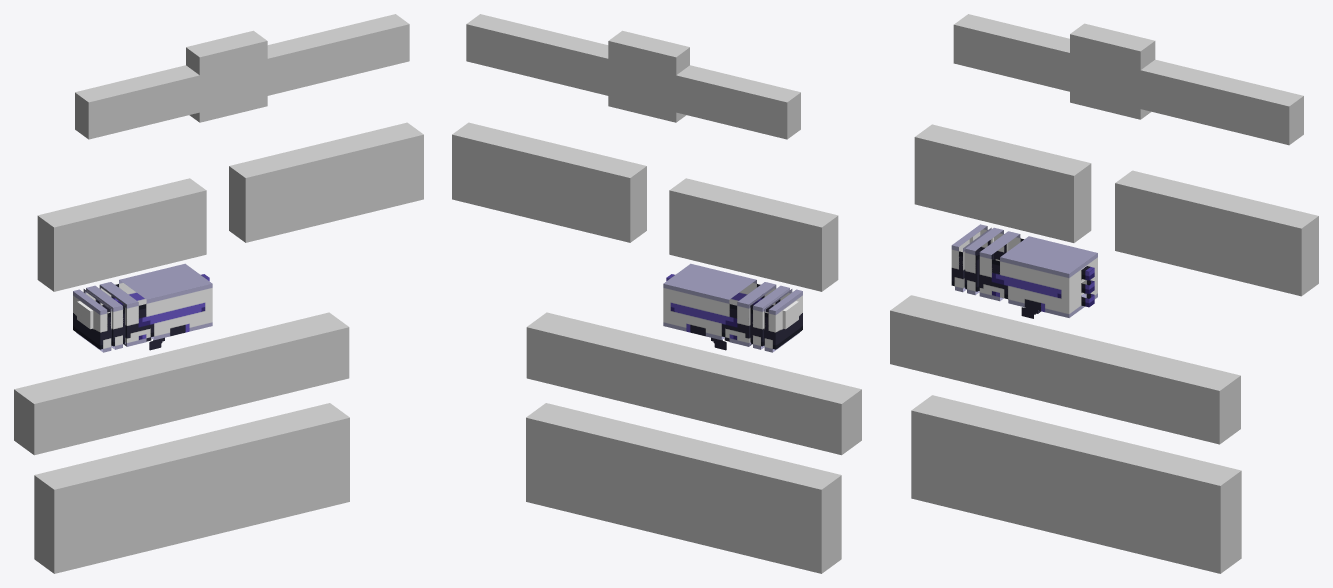
Rendered from WeaponSet.fbx.
The picture shows the model from 3 angles, left to right: view 1: azimuth 30°, elevation 25°; view 2: azimuth 150°, elevation 25°; view 3: azimuth 330°, elevation 25°; orthographic projection. The views are drawn at different scales.
Visible parts, largest first — view 1: SR, SWD, PBC, MG_open, MG, MSL; view 2: SR, SWD, PBC, MG_open, MG, MSL; view 3: SR, SWD, PBC, MG_open, MG, MSL.
Boxes of the visible parts, x1,y1,x2,y2 form: SR: (34,403,349,573); SWD: (14,312,349,455); PBC: (75,14,409,139); MG_open: (229,122,423,242); MG: (37,178,206,291); MSL: (73,263,212,352); SR: (526,403,841,573); SWD: (526,312,861,455); PBC: (466,14,800,139); MG_open: (452,122,646,242); MG: (669,178,838,291); MSL: (663,263,802,352); SR: (911,395,1241,573); SWD: (890,295,1240,444); PBC: (953,14,1303,145); MG_open: (1115,170,1318,296); MG: (914,124,1091,242); MSL: (951,224,1097,318).
Size of the model in its own units: 301 by 351 by 36.49.
